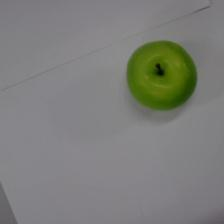green: (126, 40, 198, 111)
